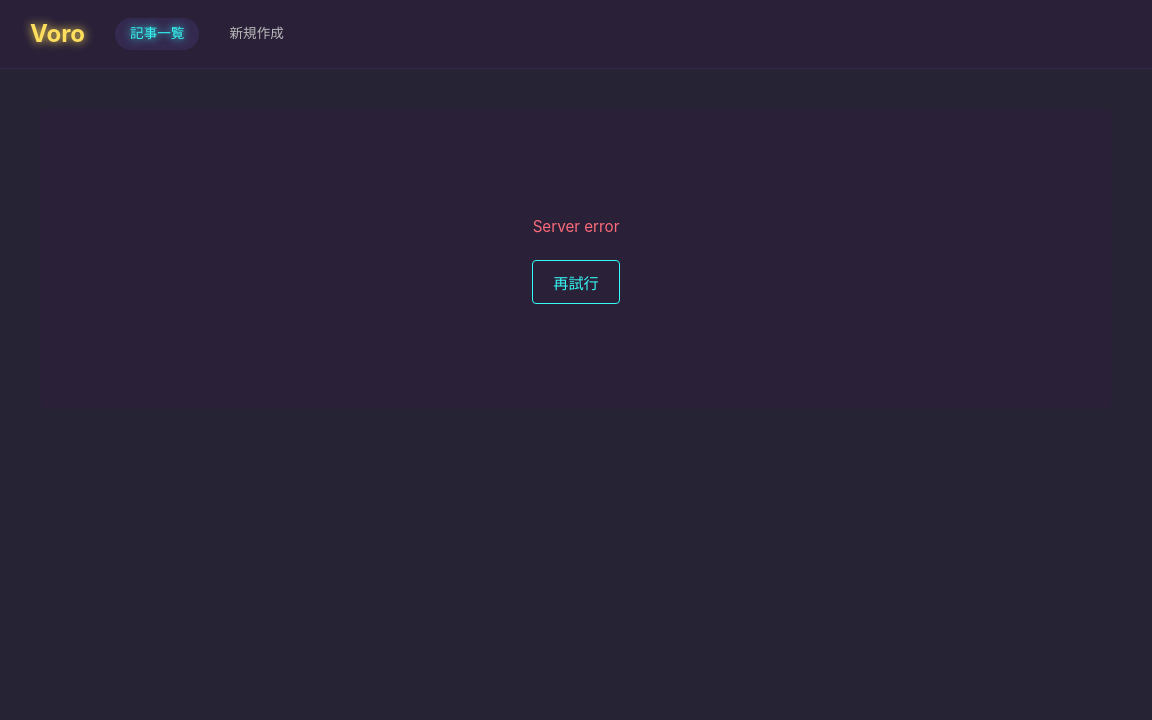
Test: PostListPage - Error Handling › retries fetching when retry button is clicked
This screenshot has width=1152, height=720.
Expected: the message "Server error 再試行" is shown, [40,109,1112,409]
Note: 再試行ボタンをクリック
Click the button "再試行".
click(576, 282)  # box [532,260,620,304]
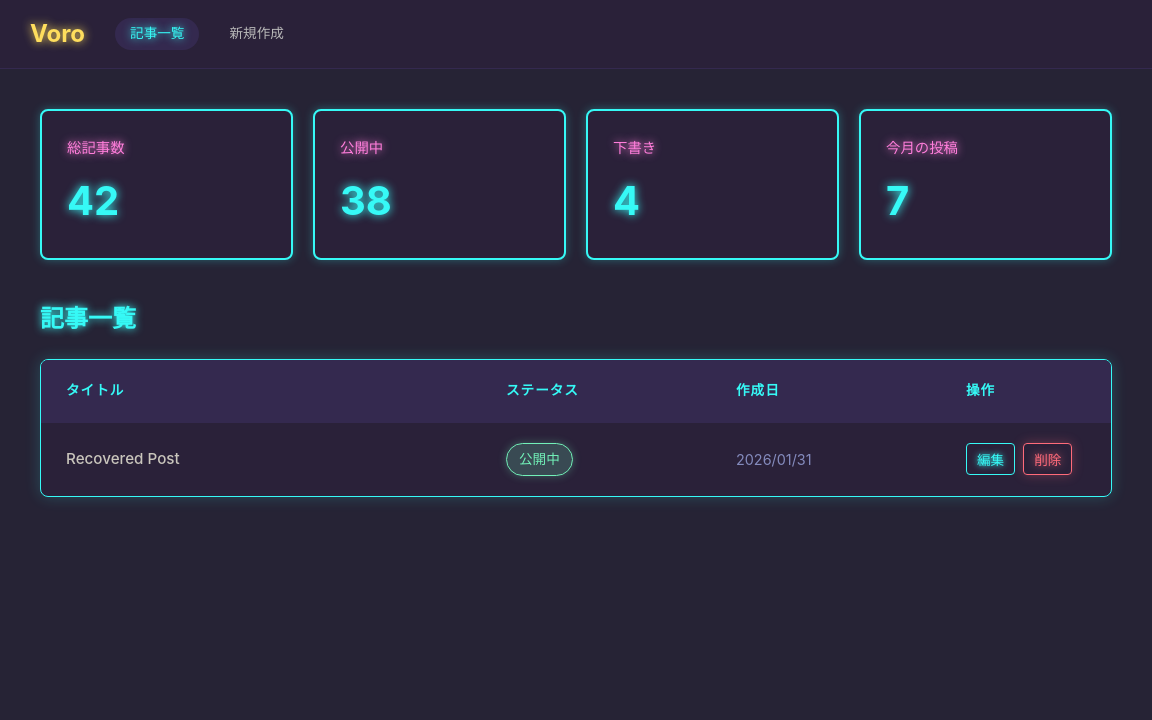
Expected: the text "Recovered Post" is shown, [66,447,180,472]
